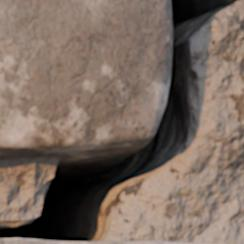brick: (0, 0, 171, 157), (0, 239, 192, 243)
crack: (0, 0, 243, 242)
